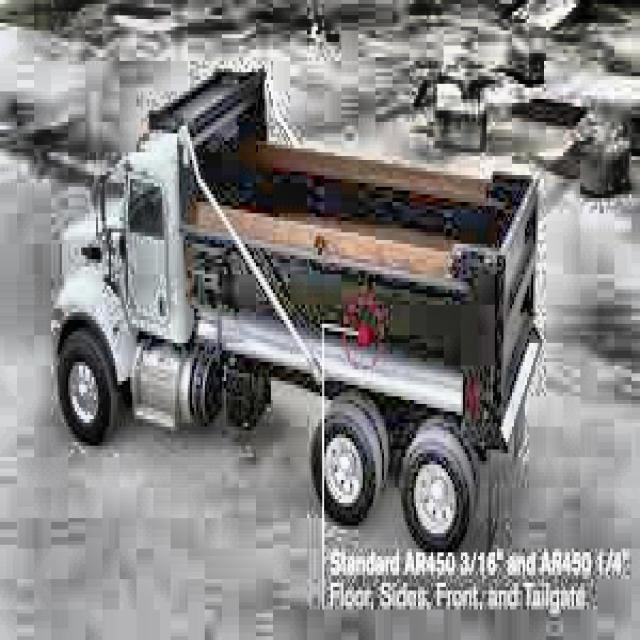dump_truck: (50, 70, 542, 558)
